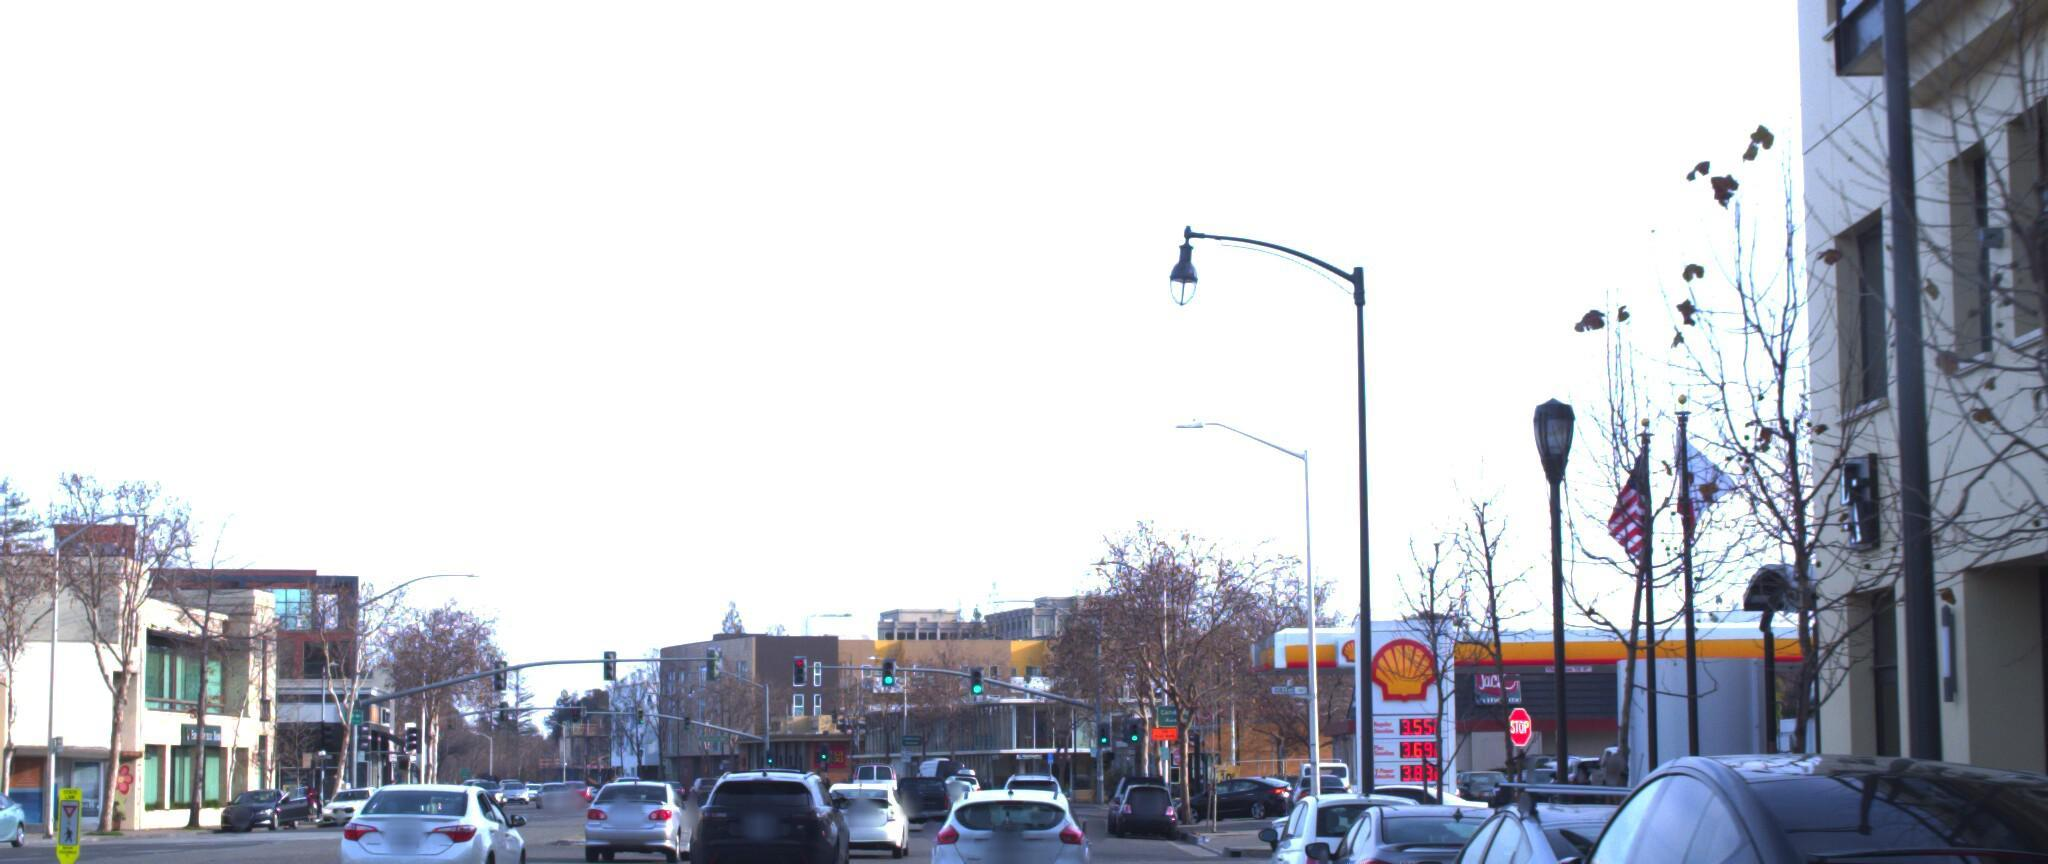car: (1499, 752, 2048, 864), (1398, 764, 1846, 864), (317, 762, 530, 864), (1298, 794, 1573, 864), (678, 749, 842, 864), (1249, 783, 1454, 864), (923, 779, 1091, 864), (802, 756, 906, 855), (571, 783, 697, 857)
